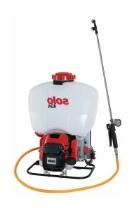PULVERISATEUR: (0, 4, 127, 208)
